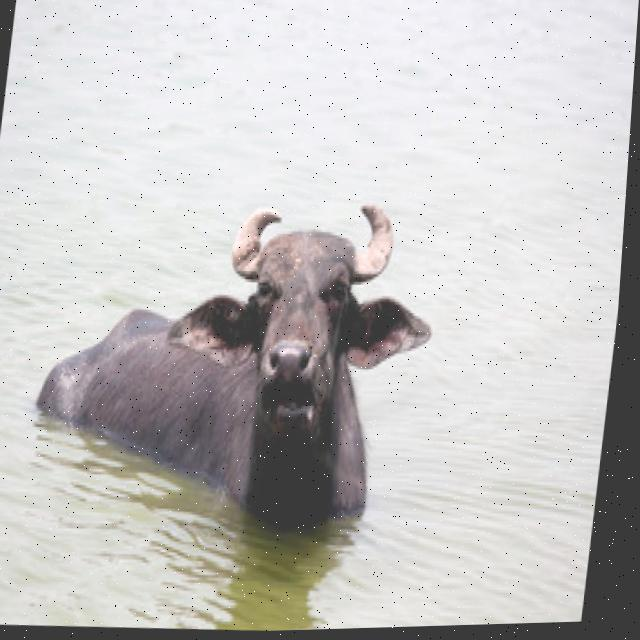Buffalo: (17, 179, 450, 548)
